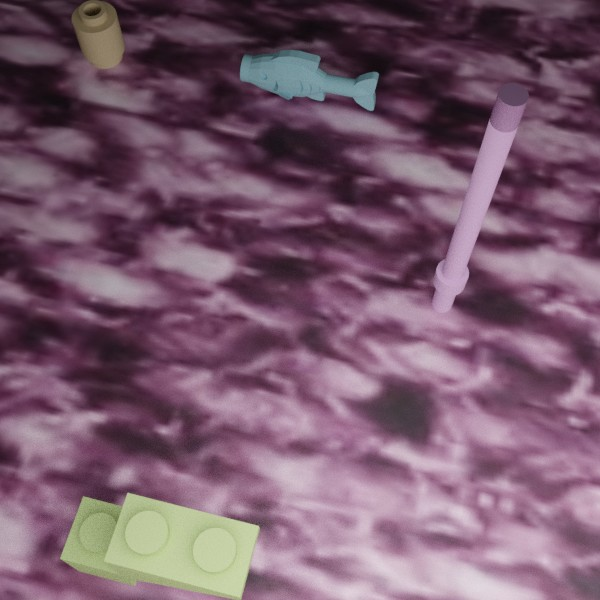lego: (431, 83, 528, 312), (60, 492, 259, 600), (240, 49, 379, 110), (71, 0, 124, 68)
